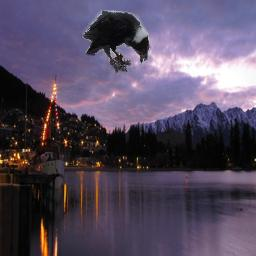Crow: (82, 10, 151, 73)
